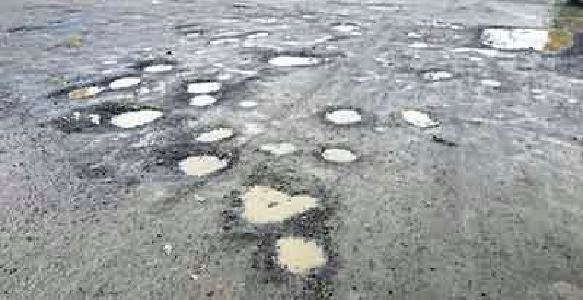pothole: (234, 179, 325, 222), (477, 22, 572, 51), (270, 232, 332, 274), (170, 149, 232, 177), (108, 103, 164, 127), (264, 49, 328, 66), (48, 80, 105, 99), (190, 123, 235, 143), (398, 106, 435, 128), (323, 104, 363, 123), (318, 146, 359, 162), (258, 139, 298, 155), (137, 56, 175, 72), (107, 72, 140, 88), (183, 77, 223, 90), (420, 66, 454, 79), (185, 92, 217, 105)
